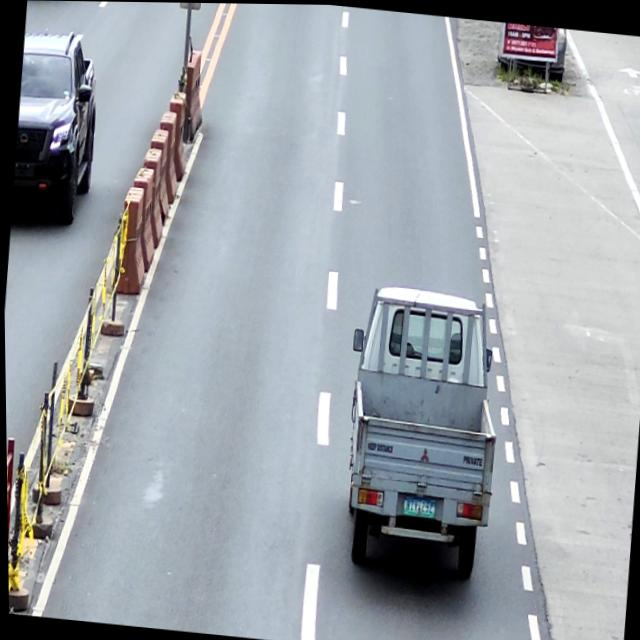Car: (8, 25, 105, 224)
License-Plate: (400, 494, 434, 518)
Truck: (331, 279, 508, 582)
